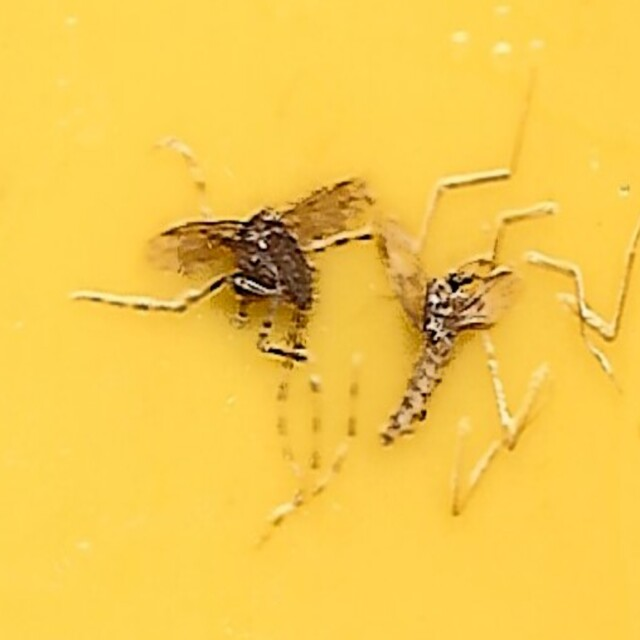Nematocera: (126, 176, 383, 368), (358, 212, 514, 464)
